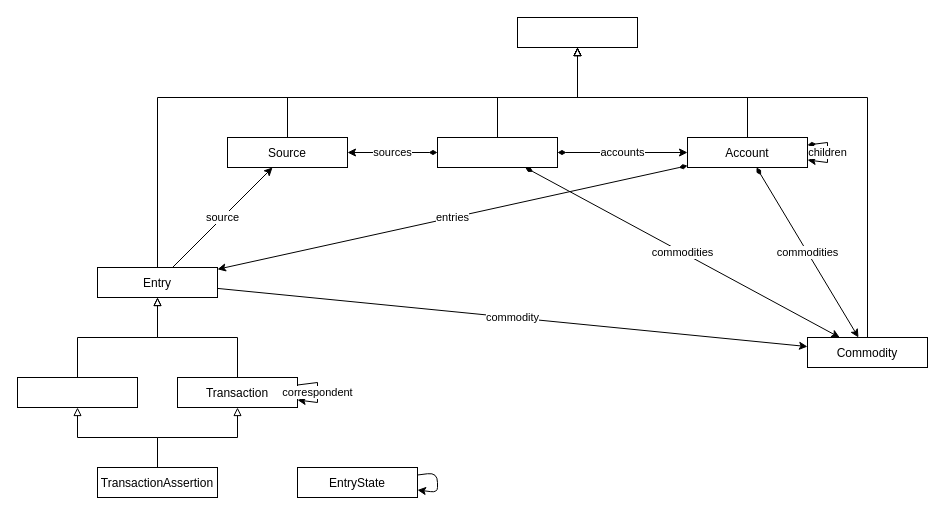
This 945x518 diagram has some shape labels left out. Here are the shapes that lost their labels. From the top down, the box of each, then its label:
(516, 16, 638, 48): NamedElement
(436, 136, 558, 168): Ledger
(16, 376, 138, 408): Assertion
